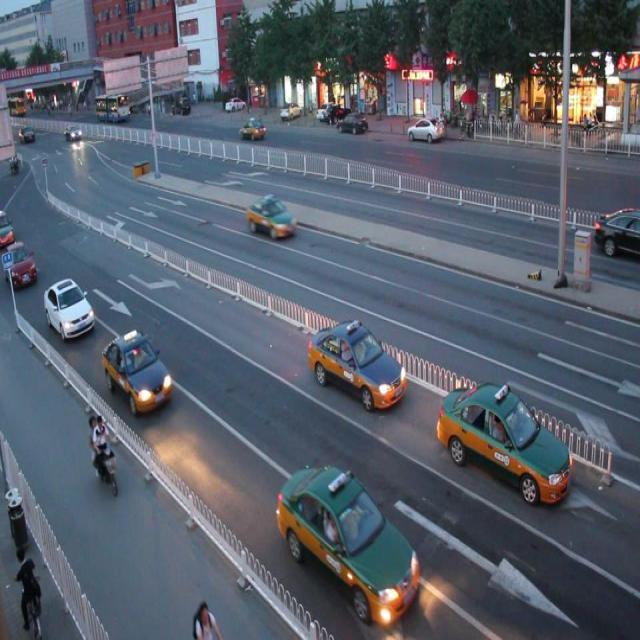car: (276, 461, 419, 626), (437, 377, 571, 501), (308, 320, 407, 411), (103, 330, 172, 412), (45, 276, 95, 340), (592, 204, 640, 258), (247, 196, 296, 240), (240, 118, 266, 140)
